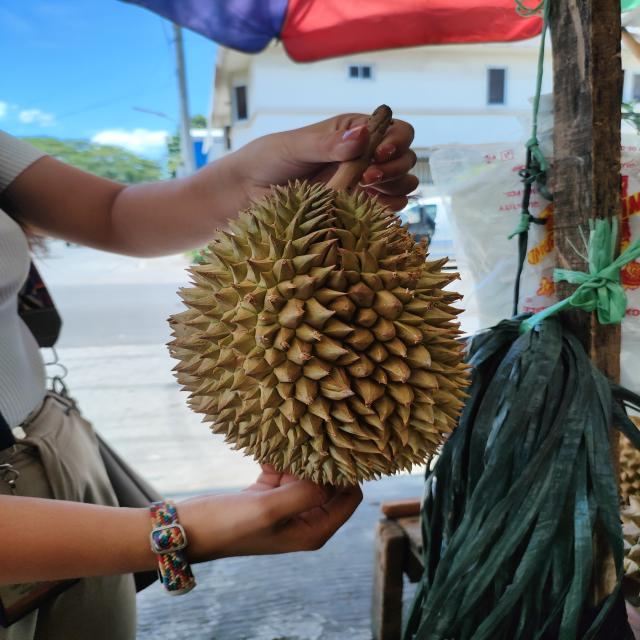mature: (164, 179, 479, 485)
